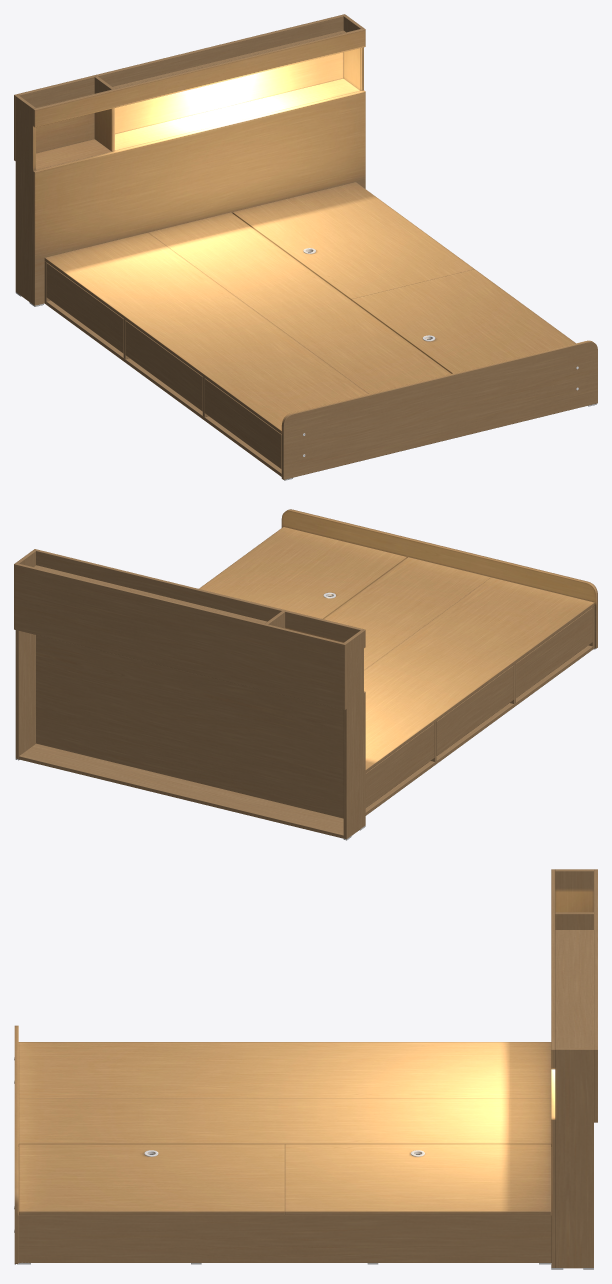
3 renders of one model, top to bottom at view 1: azimuth 30°, elevation 25°; view 2: azimuth 150°, elevation 25°; view 3: azimuth 270°, elevation 25°, orthographic. The views are drawn at different scales.
Parts seen in each view (by area): view 1: bed97417; view 2: bed97417; view 3: bed97417.
Part boxes in pixels (x1,y1,x2,y2): bed97417: [14, 14, 597, 480]; bed97417: [14, 509, 597, 840]; bed97417: [14, 869, 597, 1269].
Bounding box in the file's own units: 1.6 × 0.91 × 2.19.
Materials: 1 (1 with a texture image).
